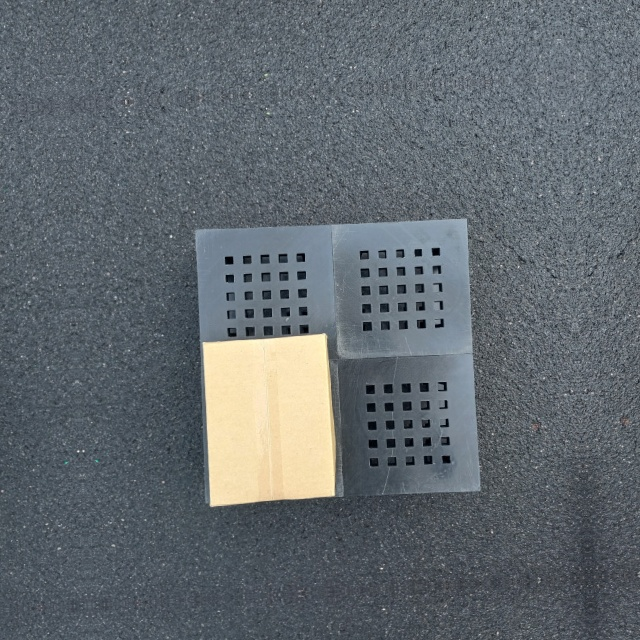box: (201, 334, 338, 507)
pallet: (193, 217, 482, 501)
